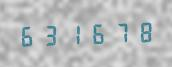eight: (133, 18, 155, 44)
one: (64, 20, 86, 46)
seven: (110, 19, 132, 45)
six: (87, 19, 109, 46), (17, 22, 39, 48)
three: (40, 21, 62, 47)
